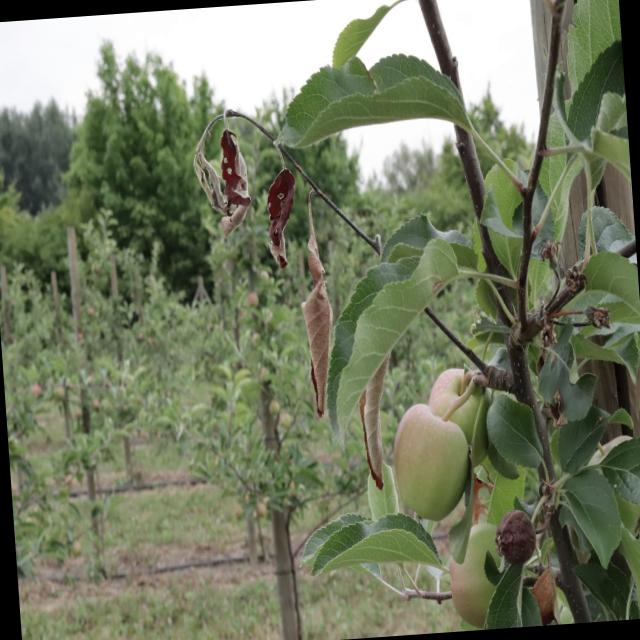-FireBlight-: (194, 106, 381, 420)
